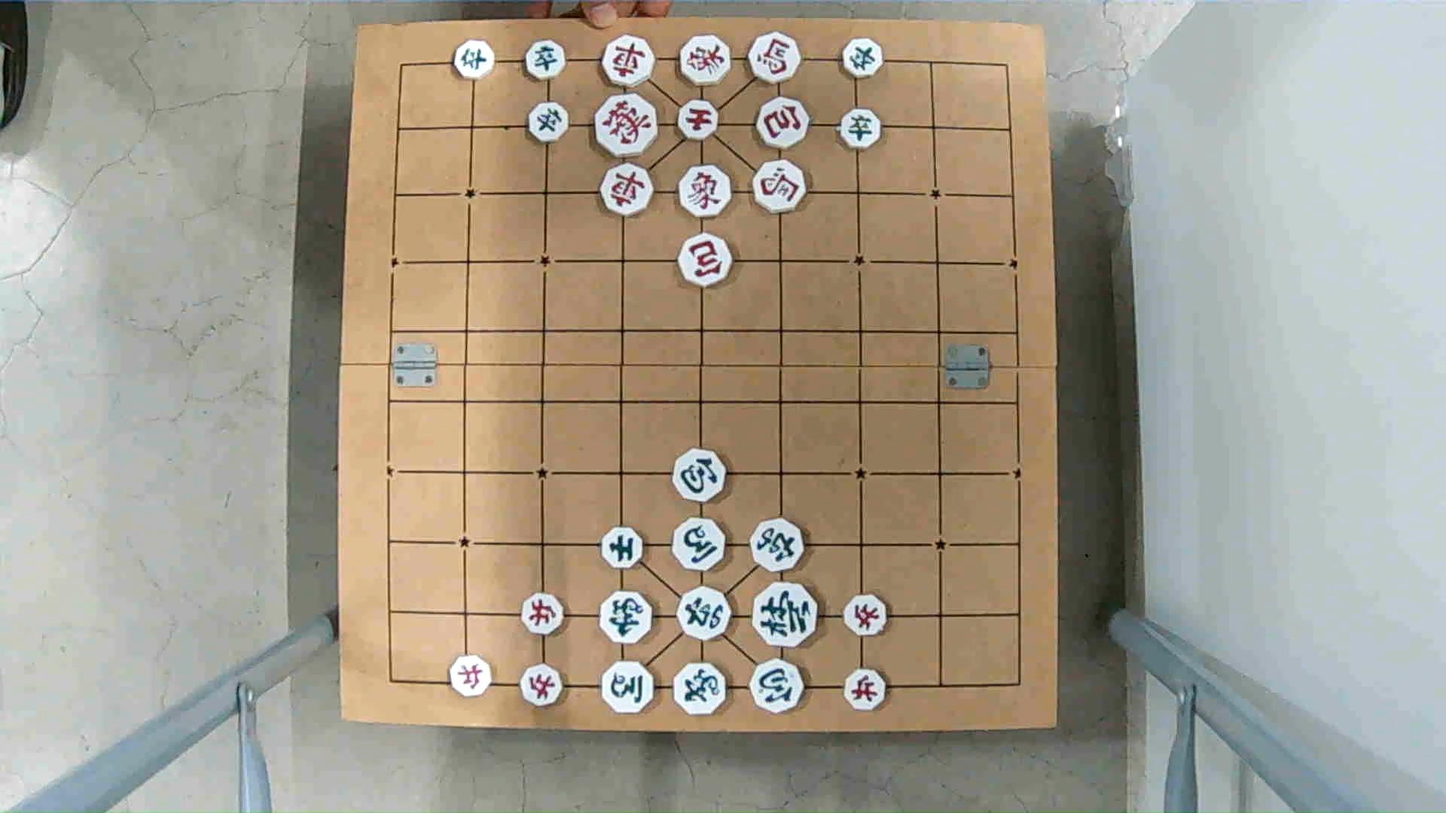cha_green: (746, 519, 809, 572), (678, 590, 735, 641)
cha_red: (603, 166, 659, 214), (603, 38, 657, 86)
jol_green: (840, 38, 883, 81), (529, 105, 573, 143), (838, 111, 883, 148), (453, 41, 496, 78), (523, 41, 566, 78)
jol_red: (522, 665, 567, 707), (844, 596, 889, 637), (521, 592, 566, 632), (453, 657, 496, 697), (845, 669, 889, 708)
ma_green: (673, 516, 728, 573), (600, 662, 656, 711)
ma_red: (750, 160, 806, 218), (752, 35, 807, 84)
po_green: (673, 452, 728, 503), (752, 661, 809, 710)
po_red: (679, 238, 736, 287), (757, 99, 812, 148)
sa_green: (601, 527, 647, 568)
sa_red: (678, 101, 721, 139)
sang_green: (675, 663, 730, 717), (600, 590, 652, 647)
sang_red: (680, 169, 736, 219), (678, 35, 733, 84)
wang_green: (753, 582, 819, 645)
wang_red: (593, 99, 661, 157)
